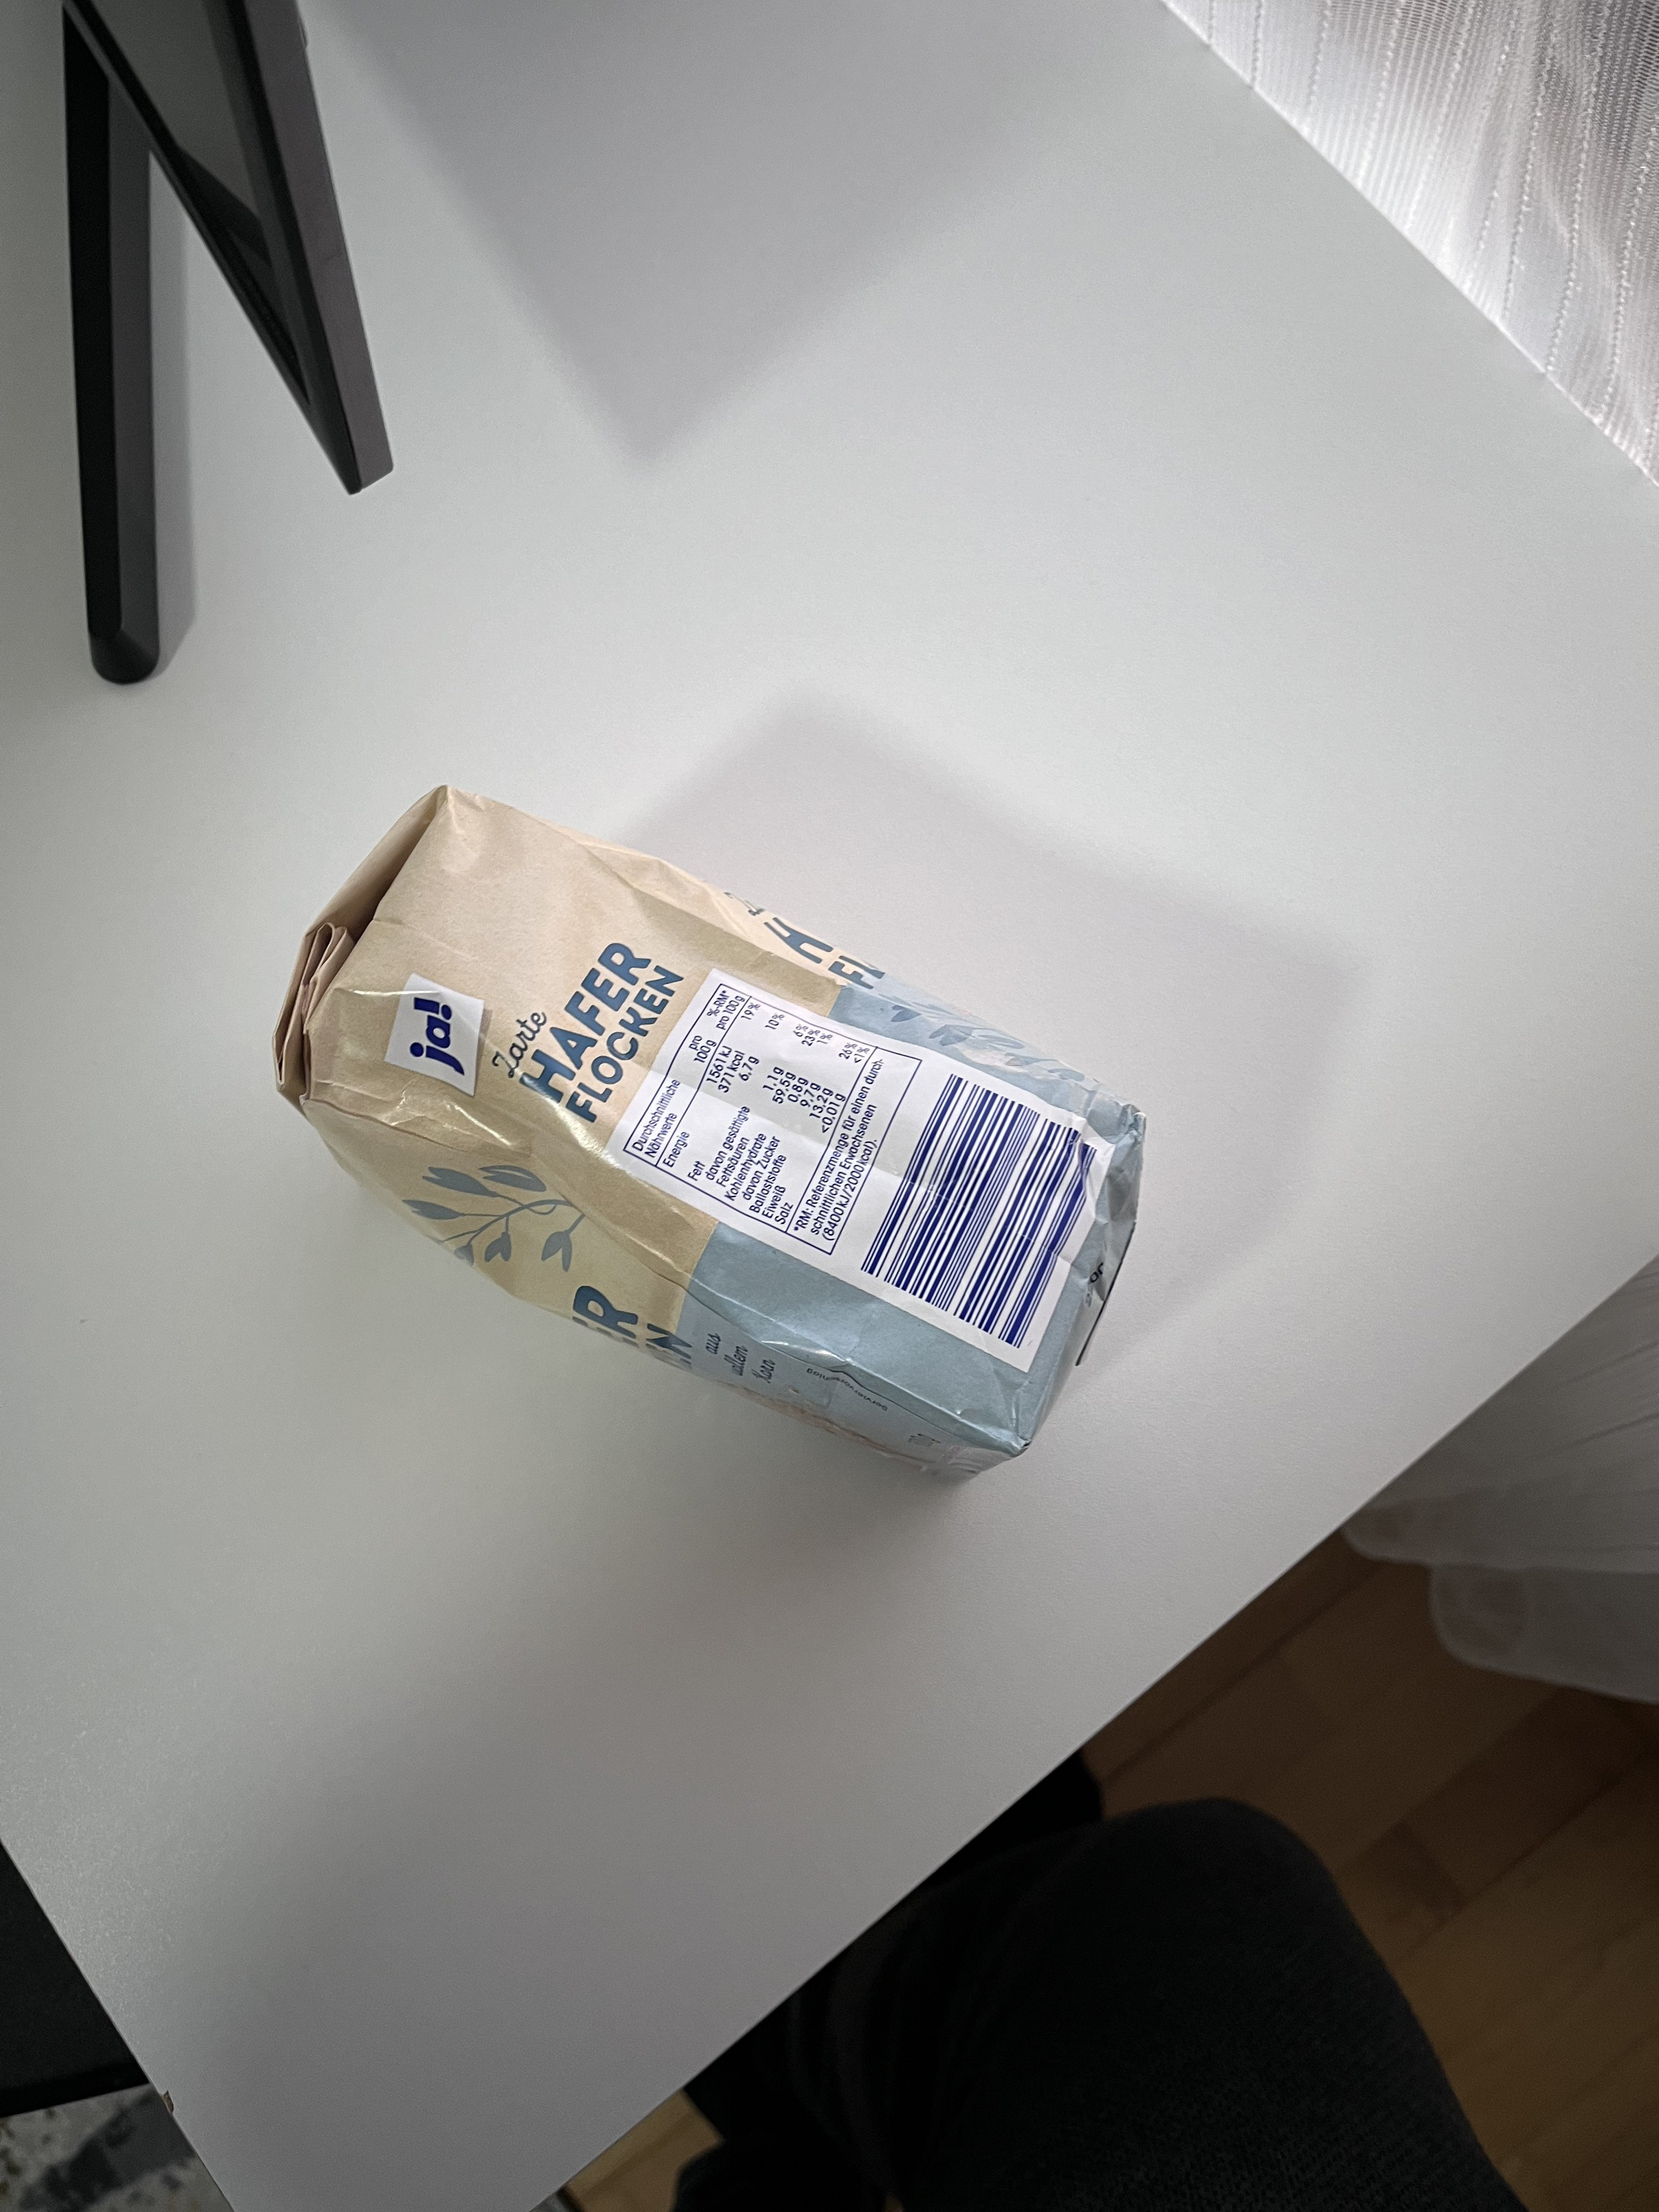haferflocken_ja: (275, 784, 1152, 1487)
